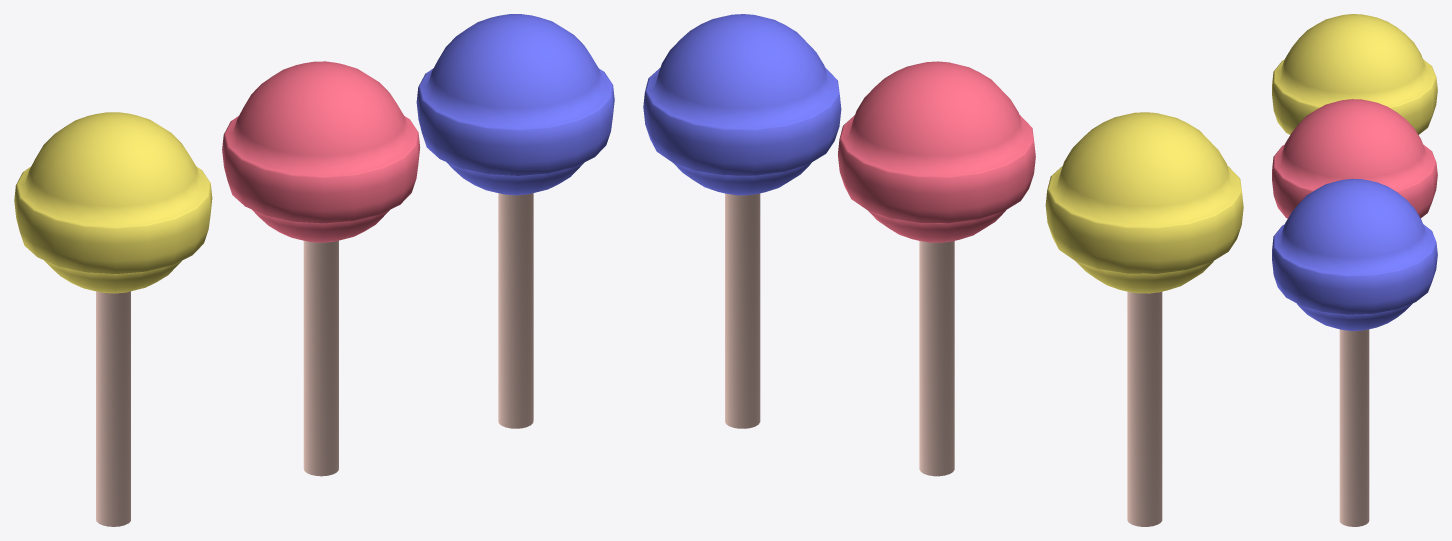
The model's file is Cupcake_Lollipop.fbx.
The picture shows the model from 3 angles, left to right: view 1: azimuth 30°, elevation 25°; view 2: azimuth 150°, elevation 25°; view 3: azimuth 270°, elevation 25°; orthographic projection. The views are drawn at different scales.
Visible parts, largest first — view 1: LolliPop_01, LolliPop_02, LolliPop_03; view 2: LolliPop_02, LolliPop_01, LolliPop_03; view 3: LolliPop_02, LolliPop_03, LolliPop_01.
Part boxes in pixels (x1,y1,x2,y2): LolliPop_01: (222, 61, 420, 476); LolliPop_02: (416, 14, 614, 428); LolliPop_03: (14, 112, 212, 526); LolliPop_02: (643, 14, 841, 428); LolliPop_01: (838, 61, 1035, 476); LolliPop_03: (1045, 112, 1243, 526); LolliPop_02: (1272, 178, 1437, 526); LolliPop_03: (1272, 14, 1437, 134); LolliPop_01: (1272, 99, 1437, 218).
Bounding box in the file's own units: 730 × 485 × 217.
